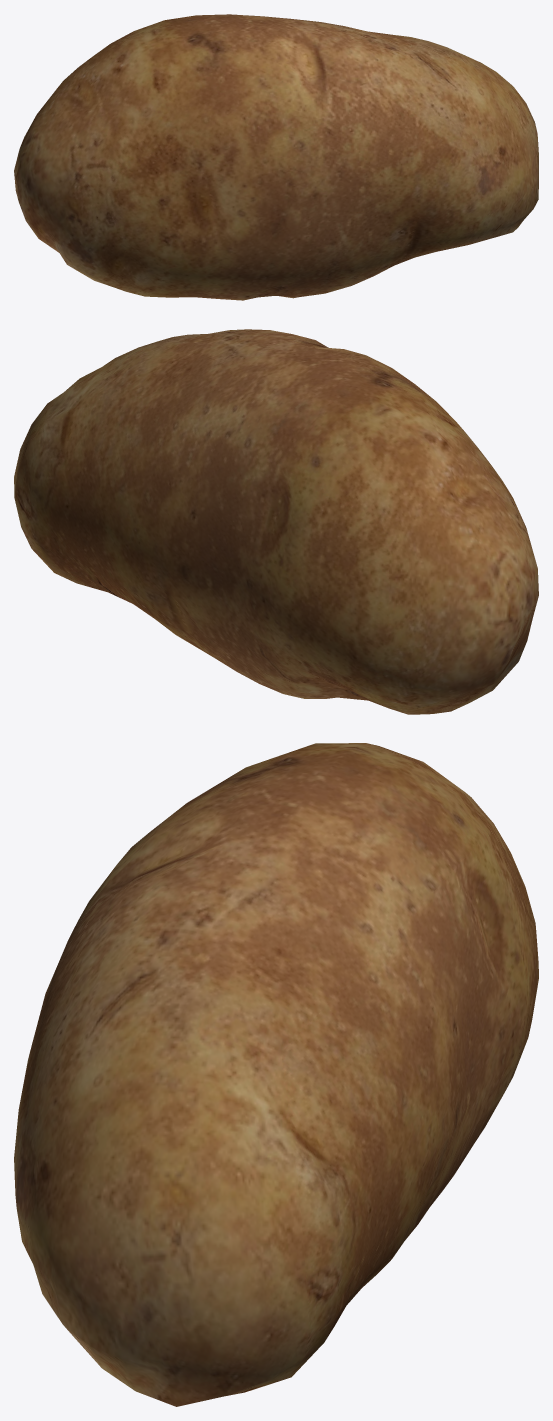
Rendered from BrownVegetablePotato01.fbx.
3 renders of one model, top to bottom at view 1: azimuth 30°, elevation 25°; view 2: azimuth 150°, elevation 25°; view 3: azimuth 270°, elevation 25°, orthographic. The views are drawn at different scales.
Visible parts, largest first — view 1: Potato01; view 2: Potato01; view 3: Potato01.
Part boxes in pixels (bbox=[...]): Potato01: bbox=[14, 14, 538, 300]; Potato01: bbox=[14, 329, 538, 714]; Potato01: bbox=[14, 743, 538, 1406].
Bounding box in the file's own units: 0.1056 × 0.0598 × 0.0597.
1 material, 1 textured.
